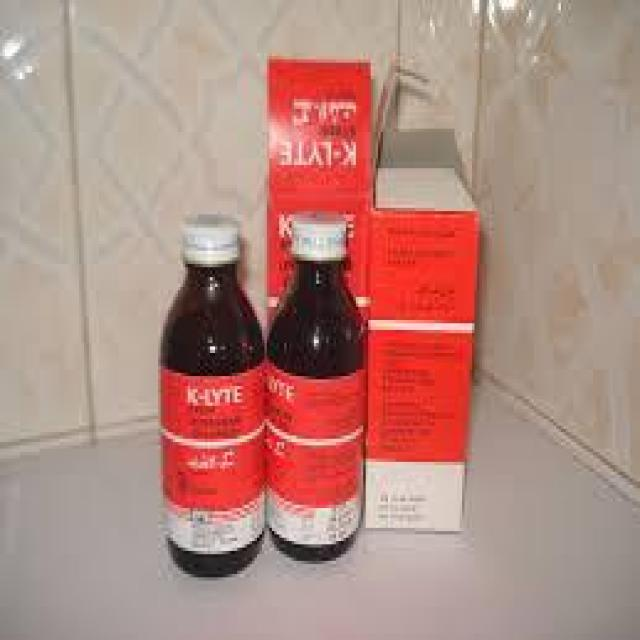B3: (141, 198, 277, 590), (257, 198, 381, 574)
